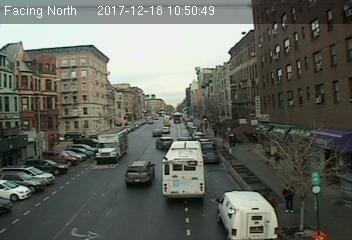bus: (160, 141, 206, 199)
car: (126, 160, 156, 186), (203, 150, 220, 162), (157, 136, 173, 148)
pedestrian: (283, 181, 294, 212)
truck: (217, 190, 279, 239), (95, 128, 128, 163)
